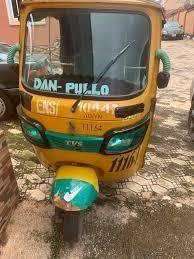keke: (10, 1, 169, 242)
